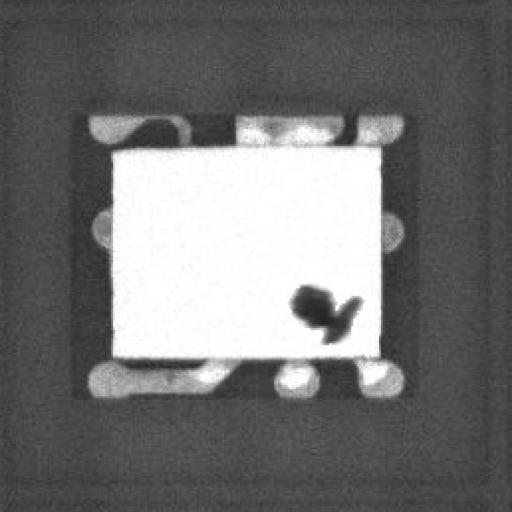DIE_INK: (273, 294, 345, 357)
